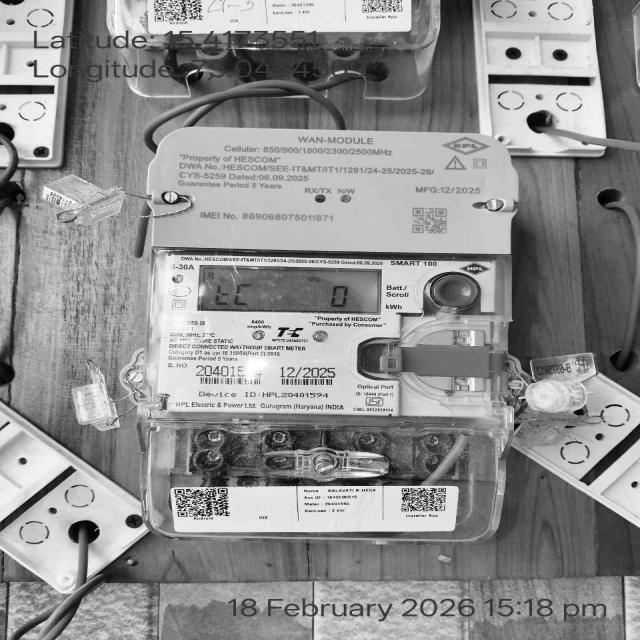meter: (151, 122, 514, 416)
